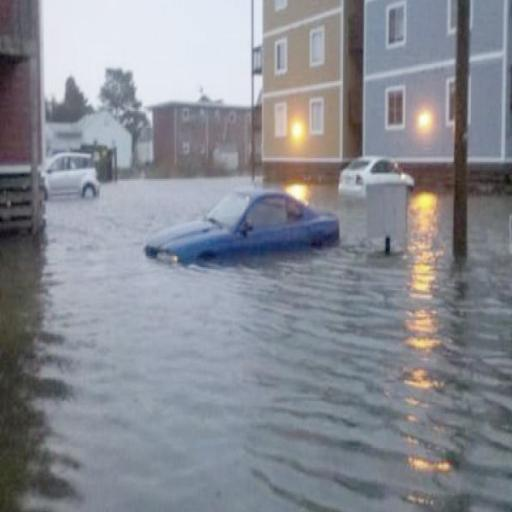flood: (0, 177, 512, 512)
house: (241, 0, 367, 179), (362, 0, 472, 188), (458, 0, 512, 188), (155, 102, 259, 164), (0, 0, 42, 113)
